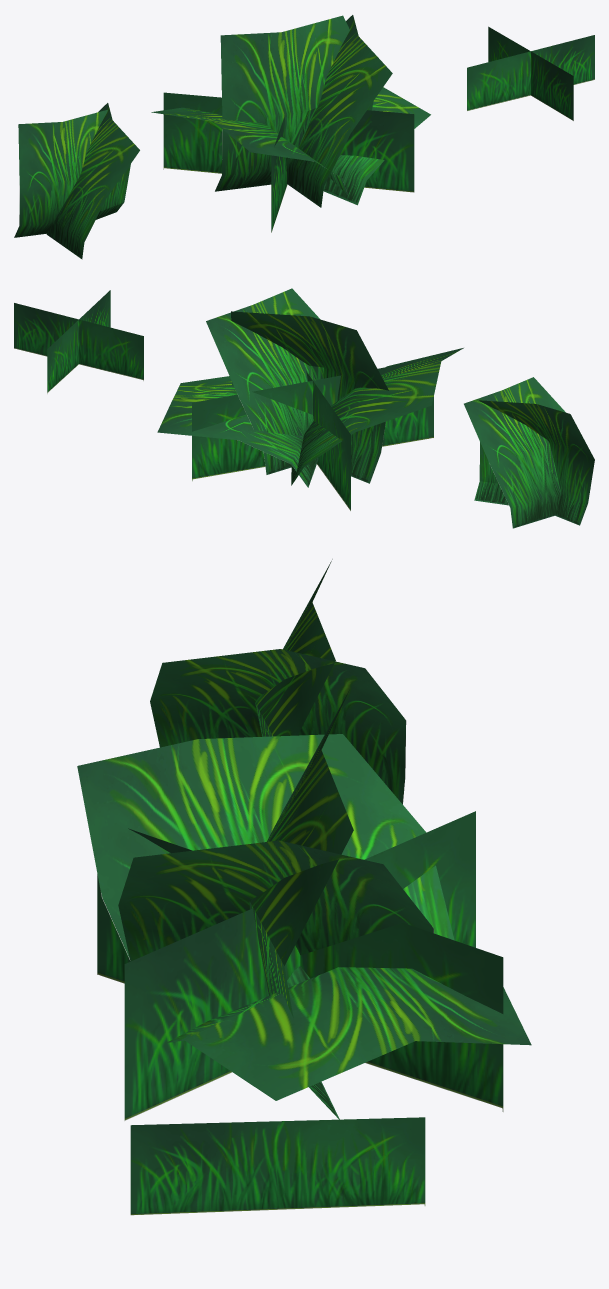
Rendered from leaf.fbx.
3 renders of one model, top to bottom at view 1: azimuth 30°, elevation 25°; view 2: azimuth 150°, elevation 25°; view 3: azimuth 270°, elevation 25°, orthographic. The views are drawn at different scales.
Visible parts, largest first — view 1: grass:glass1:long_grass001, grass:glass1:long_grass, grass:glass1:grass_short01; view 2: grass:glass1:long_grass001, grass:glass1:long_grass, grass:glass1:grass_short01; view 3: grass:glass1:long_grass001, grass:glass1:grass_short01, grass:glass1:long_grass.
Part boxes in pixels (x1,y1,x2,y2): grass:glass1:long_grass001: (151, 15, 430, 232); grass:glass1:long_grass: (14, 103, 139, 259); grass:glass1:grass_short01: (467, 26, 594, 120); grass:glass1:long_grass001: (157, 288, 463, 510); grass:glass1:long_grass: (464, 377, 594, 528); grass:glass1:grass_short01: (14, 290, 143, 393); grass:glass1:long_grass001: (77, 690, 531, 1120); grass:glass1:grass_short01: (130, 1117, 425, 1215); grass:glass1:long_grass: (150, 559, 406, 804).
Size of the model in its own units: 2645 by 673 by 907.
